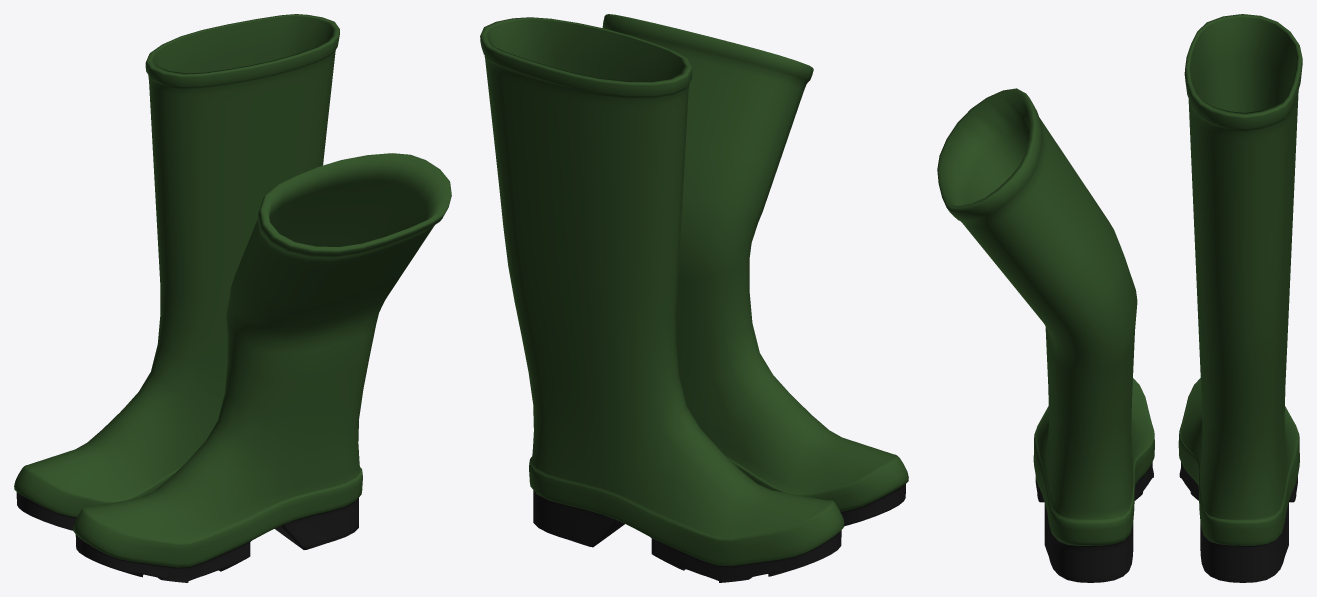
Rendered from boots2.fbx.
3 renders of one model, left to right at view 1: azimuth 30°, elevation 25°; view 2: azimuth 150°, elevation 25°; view 3: azimuth 270°, elevation 25°, orthographic. The views are drawn at different scales.
Parts seen in each view (by area): view 1: bota_low1.003, bota_low1.002; view 2: bota_low1.002, bota_low1.003; view 3: bota_low1.002, bota_low1.003.
Boxes of the visible parts, x1=… form: bota_low1.003: x1=73, y1=153, x2=451, y2=582; bota_low1.002: x1=14, y1=14, x2=339, y2=530; bota_low1.002: x1=480, y1=17, x2=844, y2=582; bota_low1.003: x1=602, y1=14, x2=908, y2=525; bota_low1.002: x1=1178, y1=14, x2=1302, y2=582; bota_low1.003: x1=937, y1=88, x2=1154, y2=582.
Size of the model in its own units: 11.23 by 14.53 by 9.74.
